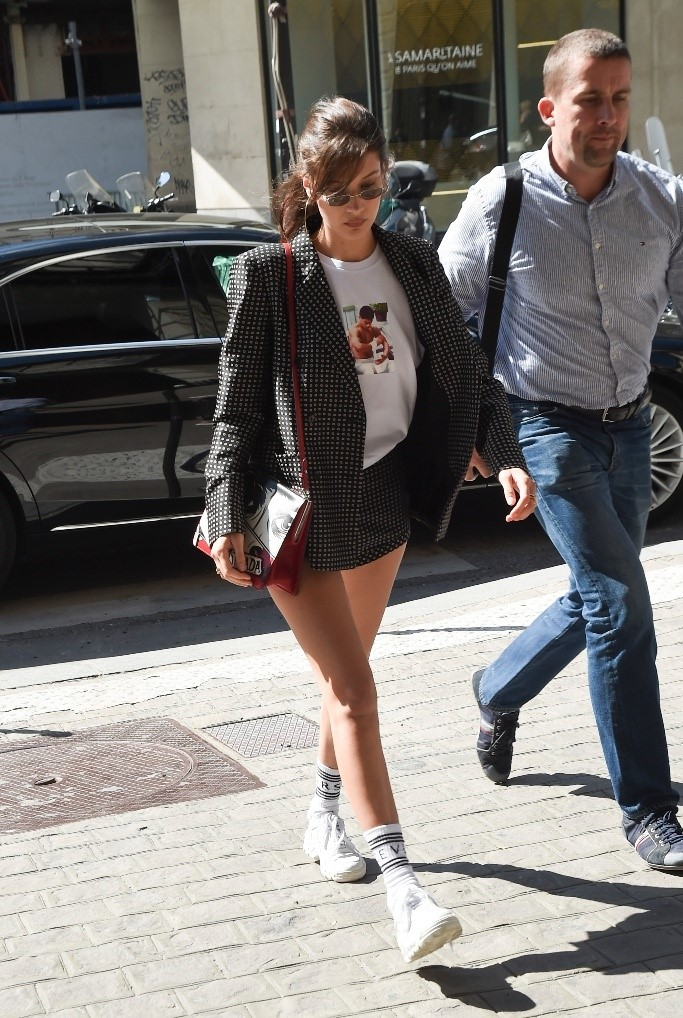face_no_mask: (537, 32, 634, 174), (293, 113, 395, 245)
